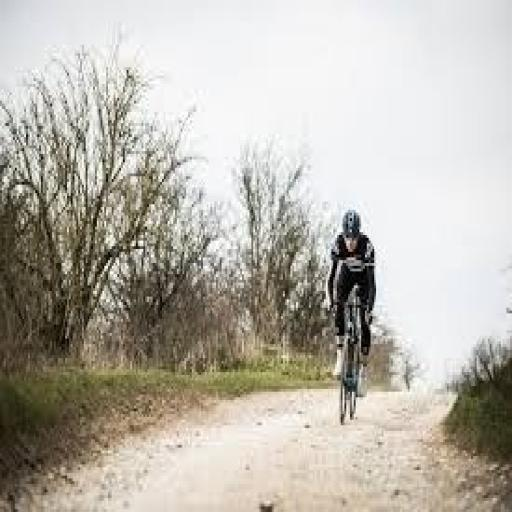cycling: (324, 207, 380, 383)
